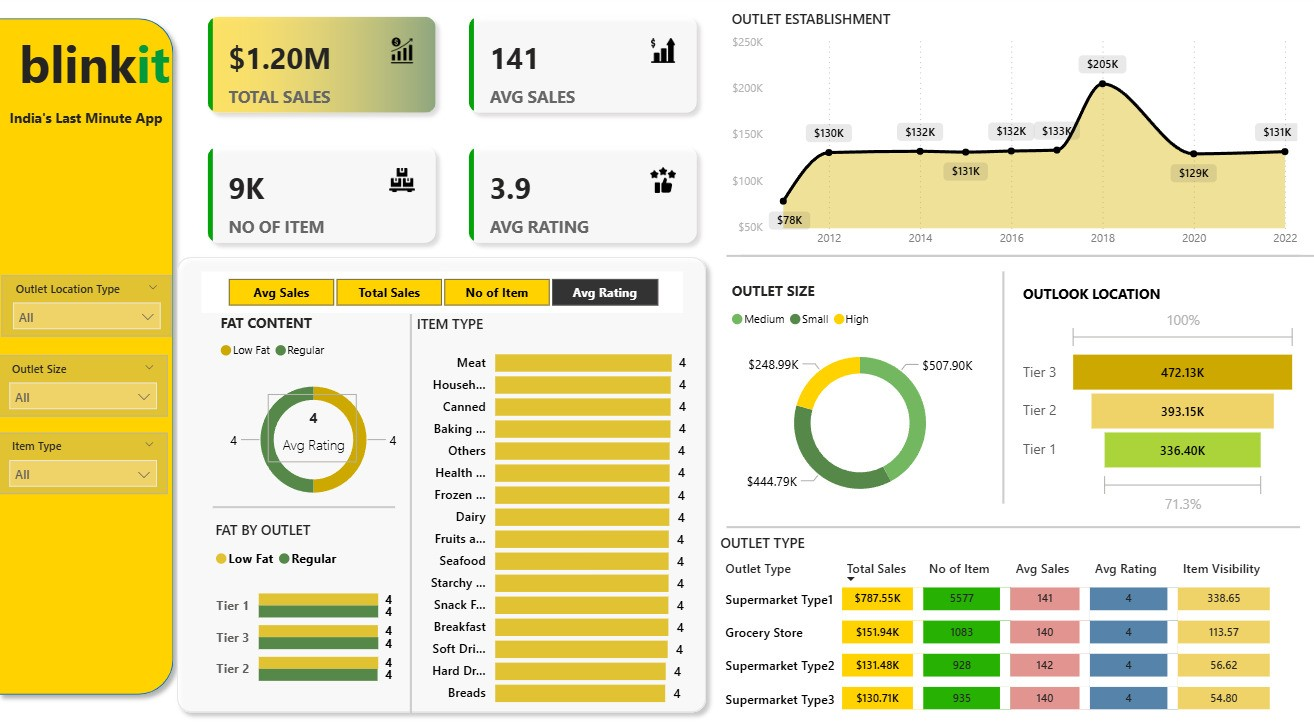

The dashboard page shown, as its layout file describes it:
{"tool":"powerbi","page":{"name":"Page 1","canvas":[1280,720],"ordinal":0},"visuals":[{"type":"shape","box":[0,14.5,187,670.8],"z":0},{"type":"textbox","box":[16.9,29,170.1,76],"z":1000},{"type":"textbox","box":[0,105,187,37.4],"z":2000},{"type":"cardVisual","fields":{"Data":["BlinkIT Grocery Data.Total Sales","BlinkIT Grocery Data.Avg Sales","BlinkIT Grocery Data.No of Item","BlinkIT Grocery Data.Avg Rating"]},"box":[194.2,4.8,506.7,253.4],"z":3000},{"type":"shape","box":[172.5,244.9,528.4,457.2],"z":4000},{"type":"donutChart","title":"FAT CONTENT ","fields":{"Y":["BlinkIT Grocery Data.Avg Rating"],"Category":["BlinkIT Grocery Data.Item Fat Content"]},"box":[218.4,307.6,190,200],"z":5000},{"type":"slicer","fields":{"Values":["Metrics.Metrics"]},"box":[205.1,267.8,464.5,39.8],"z":6000},{"type":"cardVisual","fields":{"Data":["BlinkIT Grocery Data.Avg Rating"]},"box":[264.2,381.2,96,76],"z":7000},{"type":"clusteredBarChart","title":"FAT BY OUTLET","fields":{"Y":["BlinkIT Grocery Data.Avg Rating"],"Category":["BlinkIT Grocery Data.Outlet Location Type"],"Series":["BlinkIT Grocery Data.Item Fat Content"]},"box":[213.5,507.9,181,173.7],"z":8000},{"type":"shape","box":[216,476.5,176.1,37.4],"z":9000},{"type":"shape","box":[392.1,308.8,30.2,386.1],"z":10000},{"type":"barChart","title":"ITEM TYPE","fields":{"Y":["BlinkIT Grocery Data.Avg Rating"],"Category":["BlinkIT Grocery Data.Item Type"]},"box":[407.8,308.8,270.2,388.5],"z":11000},{"type":"lineChart","title":"OUTLET ESTABLISHMENT","fields":{"Y":["BlinkIT Grocery Data.Total Sales"],"Category":["BlinkIT Grocery Data.Outlet Establishment Year"]},"box":[711.8,14.5,556.2,238.9],"z":12000},{"type":"shape","box":[726.3,234,553.8,37.4],"z":13000},{"type":"donutChart","title":"OUTLET SIZE","fields":{"Y":["BlinkIT Grocery Data.Total Sales"],"Category":["BlinkIT Grocery Data.Outlet Size"]},"box":[711.8,277.5,258.2,228],"z":14000},{"type":"shape","box":[711.8,234,553.8,37.4],"z":15000},{"type":"shape","box":[954.3,267.8,49.5,224.4],"z":16000},{"type":"funnel","title":"OUTLOOK LOCATION","fields":{"Y":["Sum(BlinkIT Grocery Data.Sales)"],"Category":["BlinkIT Grocery Data.Outlet Location Type"]},"box":[992.9,279.9,275.1,228],"z":17000},{"type":"shape","box":[711.8,495.8,553.8,37.4],"z":18000},{"type":"pivotTable","title":"OUTLET TYPE","fields":{"Rows":["BlinkIT Grocery Data.Outlet Type"],"Values":["BlinkIT Grocery Data.Total Sales","BlinkIT Grocery Data.No of Item","BlinkIT Grocery Data.Avg Sales","BlinkIT Grocery Data.Avg Rating","Sum(BlinkIT Grocery Data.Item Visibility)"]},"box":[700.9,520,579.1,200.3],"z":19000},{"type":"slicer","fields":{"Values":["BlinkIT Grocery Data.Outlet Location Type"]},"box":[12.1,271.4,164.1,59.1],"z":20000},{"type":"slicer","fields":{"Values":["BlinkIT Grocery Data.Outlet Size"]},"box":[8.4,348.7,164.1,59.1],"z":21000},{"type":"slicer","fields":{"Values":["BlinkIT Grocery Data.Item Type"]},"box":[8.4,423.5,164.1,59.1],"z":22000}]}

Visuals, with their boxes in screenshot pixels (x1, y1, x2, y2), scaled from the page's 1280x720 canvas onto the 1314x725 screenshot:
shape: (x1=0, y1=15, x2=192, y2=690)
textbox: (x1=17, y1=29, x2=192, y2=106)
textbox: (x1=0, y1=106, x2=192, y2=143)
cardVisual - BlinkIT Grocery Data.Total Sales x BlinkIT Grocery Data.Avg Sales: (x1=199, y1=5, x2=720, y2=260)
shape: (x1=177, y1=247, x2=720, y2=707)
"FAT CONTENT " donutChart: (x1=224, y1=310, x2=419, y2=511)
slicer - Metrics.Metrics: (x1=211, y1=270, x2=687, y2=310)
cardVisual - BlinkIT Grocery Data.Avg Rating: (x1=271, y1=384, x2=370, y2=460)
"FAT BY OUTLET" clusteredBarChart: (x1=219, y1=511, x2=405, y2=686)
shape: (x1=222, y1=480, x2=403, y2=517)
shape: (x1=403, y1=311, x2=434, y2=700)
"ITEM TYPE" barChart: (x1=419, y1=311, x2=696, y2=702)
"OUTLET ESTABLISHMENT" lineChart: (x1=731, y1=15, x2=1302, y2=255)
shape: (x1=746, y1=236, x2=1313, y2=273)
"OUTLET SIZE" donutChart: (x1=731, y1=279, x2=996, y2=509)
shape: (x1=731, y1=236, x2=1299, y2=273)
shape: (x1=980, y1=270, x2=1030, y2=496)
"OUTLOOK LOCATION" funnel: (x1=1019, y1=282, x2=1302, y2=511)
shape: (x1=731, y1=499, x2=1299, y2=537)
"OUTLET TYPE" pivotTable: (x1=720, y1=524, x2=1313, y2=724)
slicer - BlinkIT Grocery Data.Outlet Location Type: (x1=12, y1=273, x2=181, y2=333)
slicer - BlinkIT Grocery Data.Outlet Size: (x1=9, y1=351, x2=177, y2=411)
slicer - BlinkIT Grocery Data.Item Type: (x1=9, y1=426, x2=177, y2=486)
